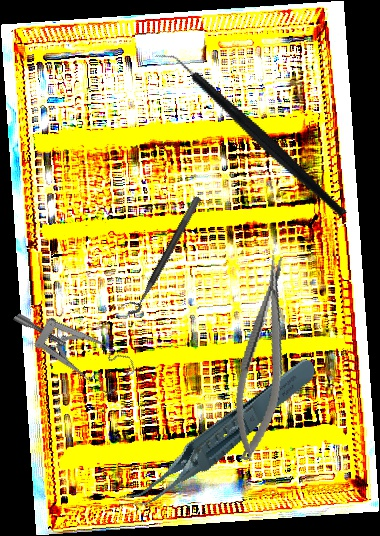Chopper: (152, 9, 349, 260)
Fixation Ring: (118, 189, 203, 320)
Needle Holder: (223, 253, 305, 464)
Speculum: (12, 276, 141, 414)
Tissue Forceps: (98, 356, 338, 513)
